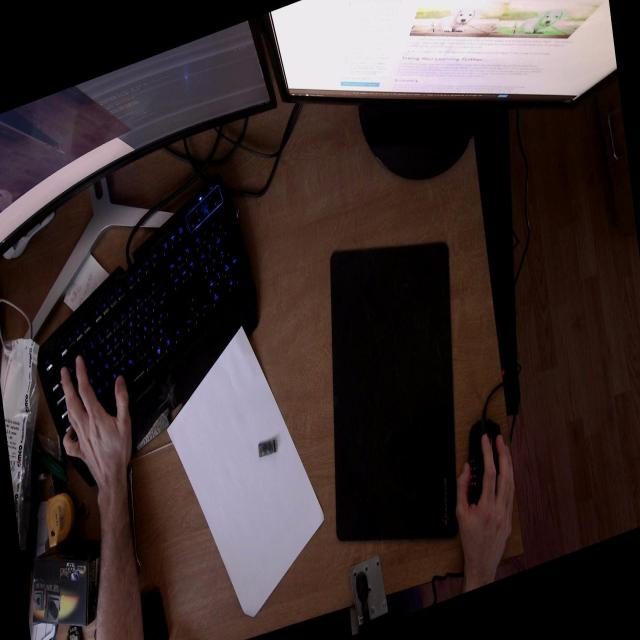keyboard-with-hands: (33, 159, 271, 498)
